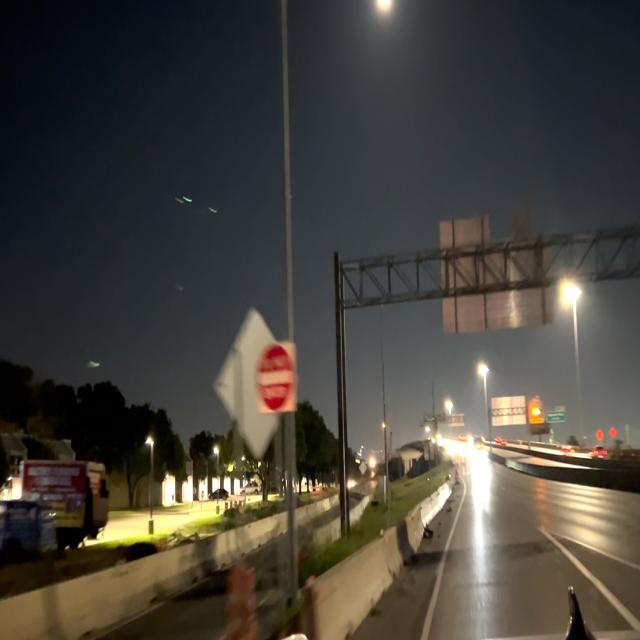back-of-sign: (437, 205, 560, 336), (491, 393, 527, 429), (449, 409, 467, 431)
